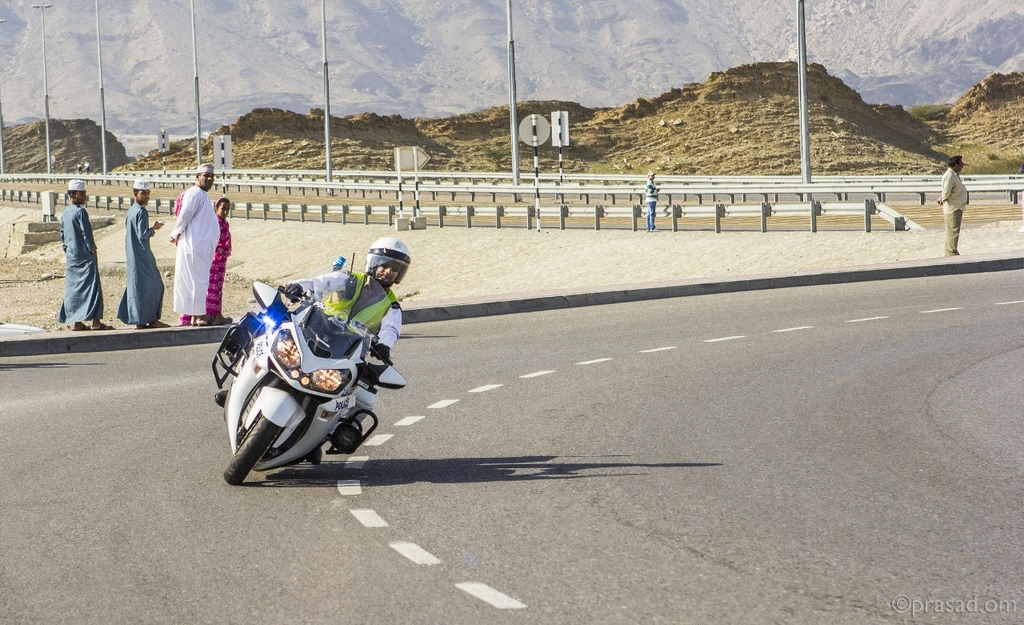Motorcycle: (212, 252, 405, 483)
